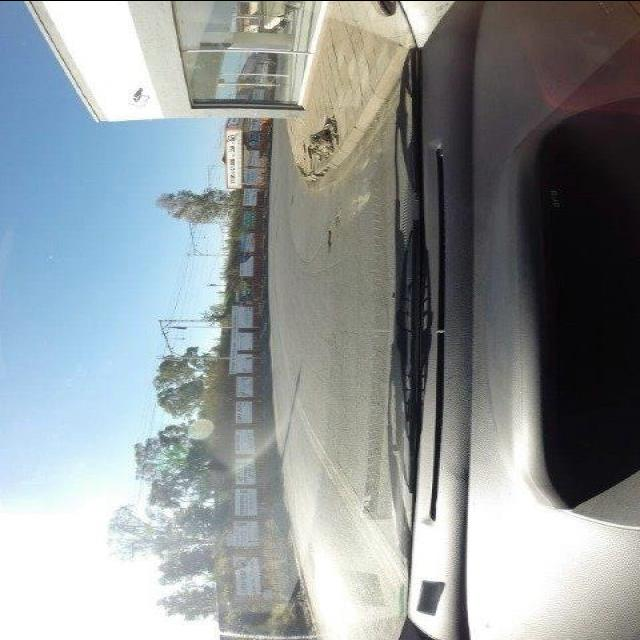jalan retak: (287, 191, 297, 210)
lubang: (315, 188, 349, 249)
